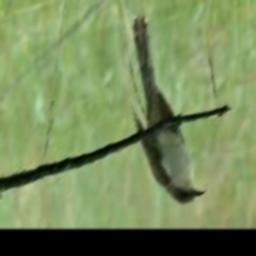Cuckoo: (128, 14, 204, 204)
